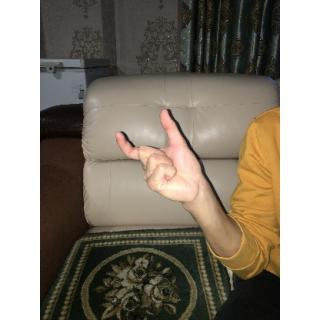NOON: (113, 104, 207, 205)
